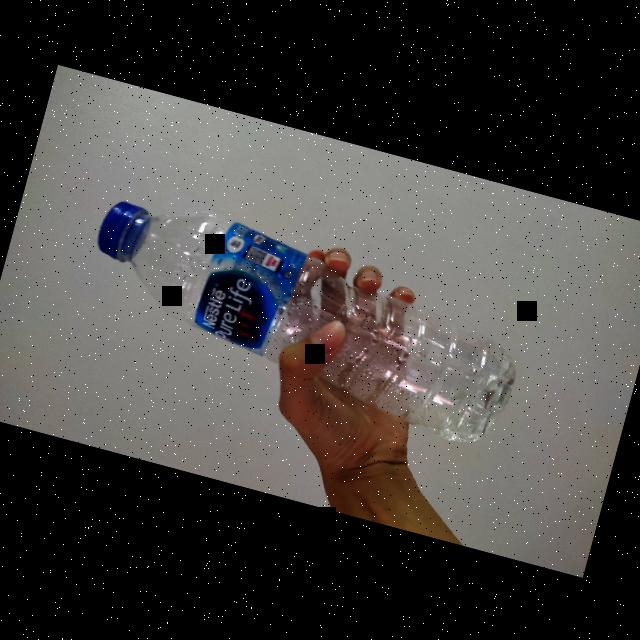plastic_bottle: (61, 172, 542, 463)
